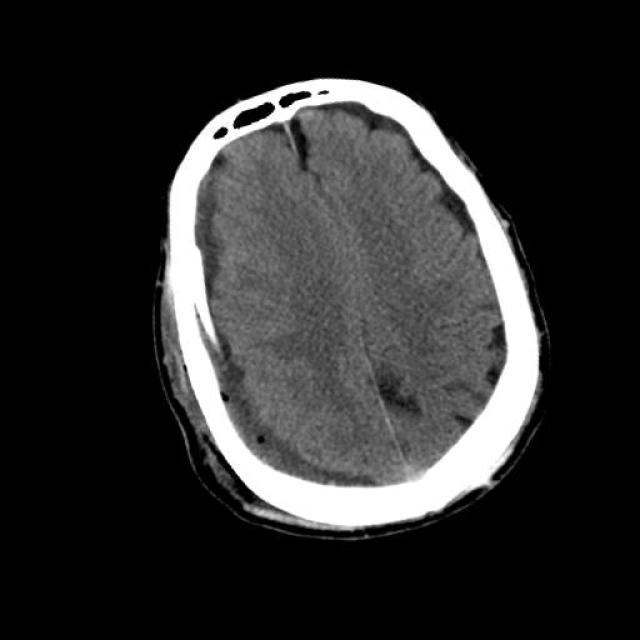Subdural: (187, 288, 386, 532)
